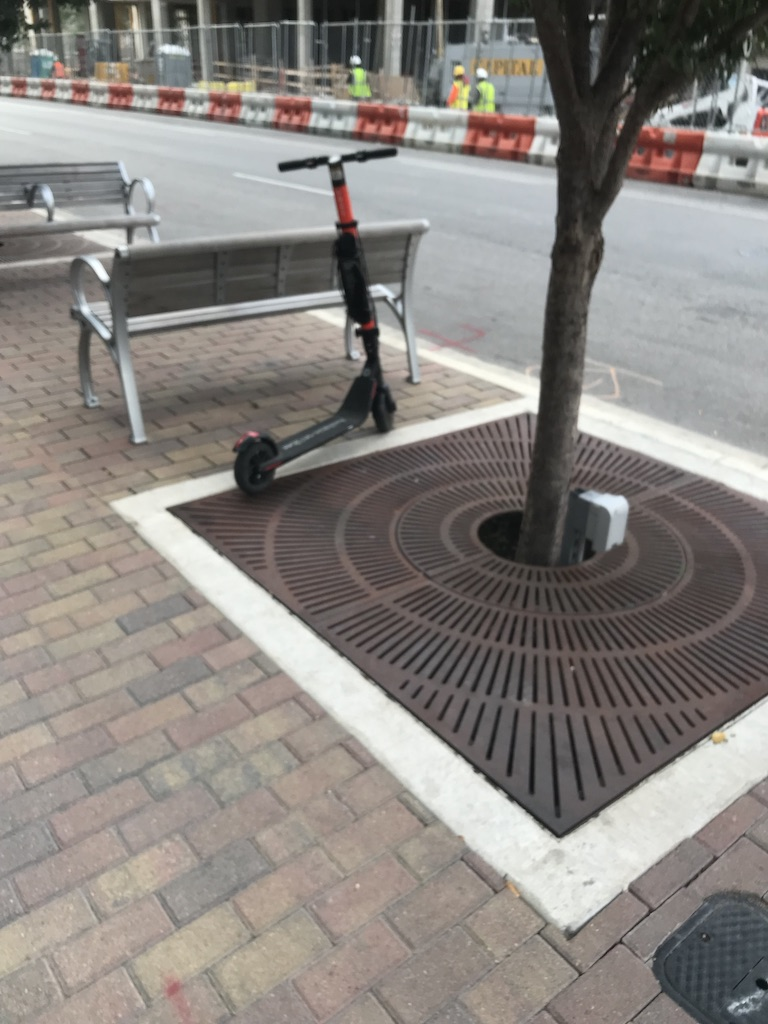scooter: (230, 146, 401, 493)
